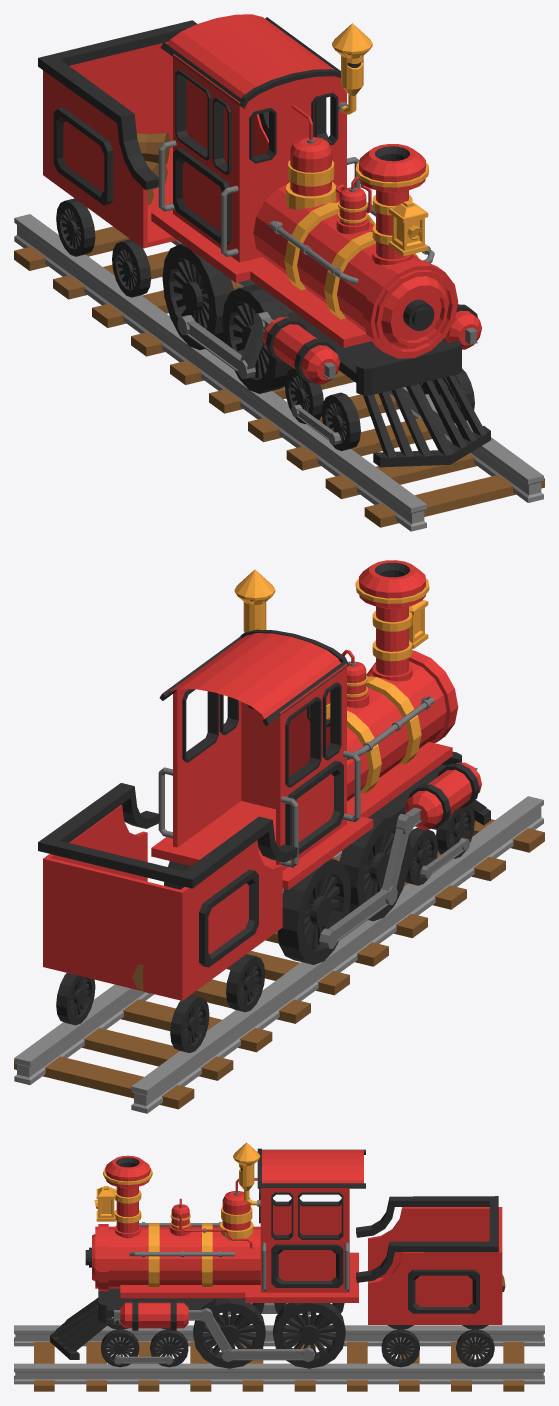
File: Steam_Locomotive_Low_Poly.glb
The picture shows the model from 3 angles, top to bottom: view 1: azimuth 30°, elevation 25°; view 2: azimuth 150°, elevation 25°; view 3: azimuth 270°, elevation 25°; orthographic projection. The views are drawn at different scales.
Visible parts, largest first — view 1: Steam Locomotive_Material.001_0, Steam Locomotive_Material.003_0, Steam Locomotive_Material.006_0, Steam Locomotive_Material.005_0, Steam Locomotive_Material.002_0, Steam Locomotive_Material.004_0; view 2: Steam Locomotive_Material.001_0, Steam Locomotive_Material.003_0, Steam Locomotive_Material.006_0, Steam Locomotive_Material.005_0, Steam Locomotive_Material.002_0, Steam Locomotive_Material.004_0; view 3: Steam Locomotive_Material.001_0, Steam Locomotive_Material.003_0, Steam Locomotive_Material.006_0, Steam Locomotive_Material.005_0, Steam Locomotive_Material.002_0, Steam Locomotive_Material.004_0.
Part boxes in pixels (x1,y1,x2,y2): Steam Locomotive_Material.001_0: (43,14,481,384); Steam Locomotive_Material.003_0: (38,17,490,467); Steam Locomotive_Material.006_0: (14,214,543,531); Steam Locomotive_Material.005_0: (14,132,544,527); Steam Locomotive_Material.002_0: (284,23,428,319); Steam Locomotive_Material.004_0: (158,102,477,444); Steam Locomotive_Material.001_0: (43,560,481,1000); Steam Locomotive_Material.003_0: (38,562,490,1053); Steam Locomotive_Material.006_0: (14,796,543,1113); Steam Locomotive_Material.005_0: (14,819,544,1109); Steam Locomotive_Material.002_0: (234,569,429,793); Steam Locomotive_Material.004_0: (158,662,477,948); Steam Locomotive_Material.001_0: (92,1150,502,1328); Steam Locomotive_Material.003_0: (50,1148,498,1368); Steam Locomotive_Material.006_0: (14,1325,544,1384); Steam Locomotive_Material.005_0: (34,1274,524,1391); Steam Locomotive_Material.002_0: (94,1142,260,1286); Steam Locomotive_Material.004_0: (114,1192,349,1364).
Size of the model in its own units: 4.53 by 8.51 by 17.17.
